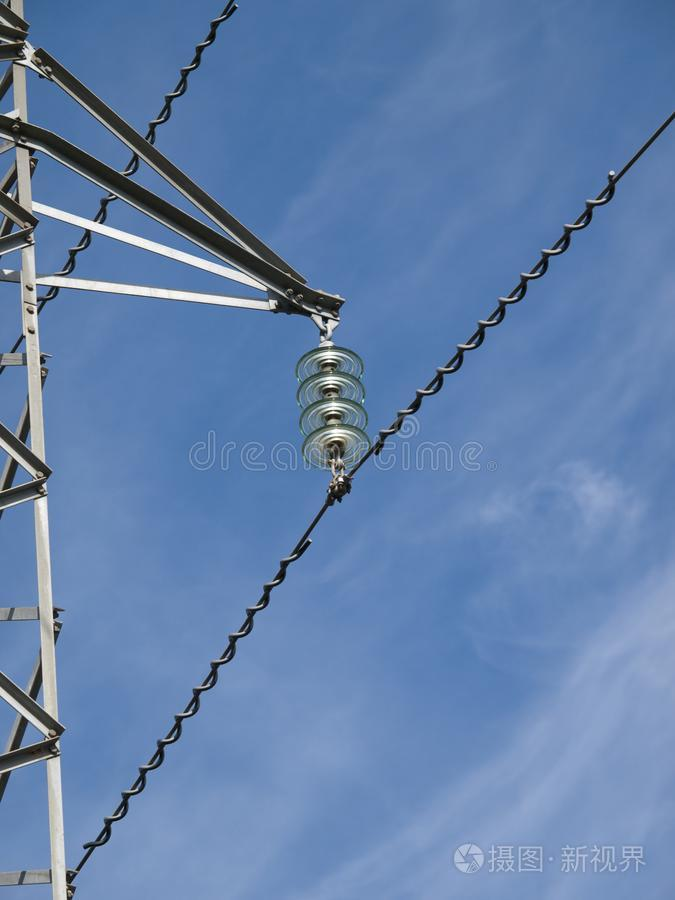insulator: (291, 348, 371, 468)
